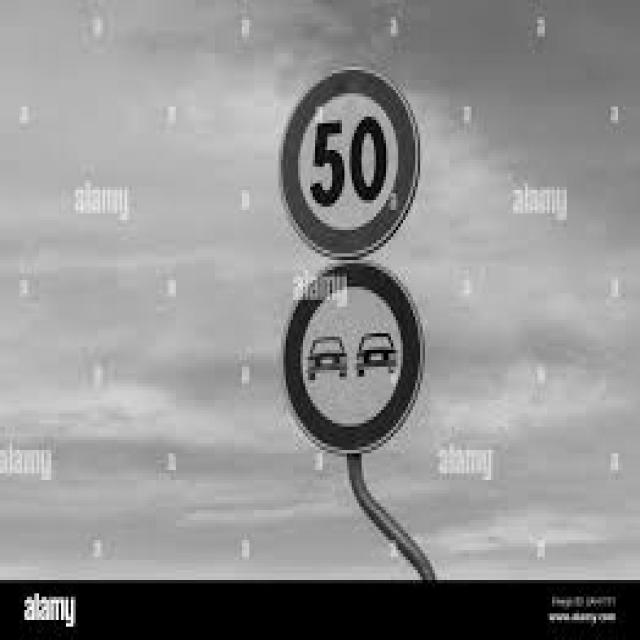speed_50: (278, 64, 418, 260)
